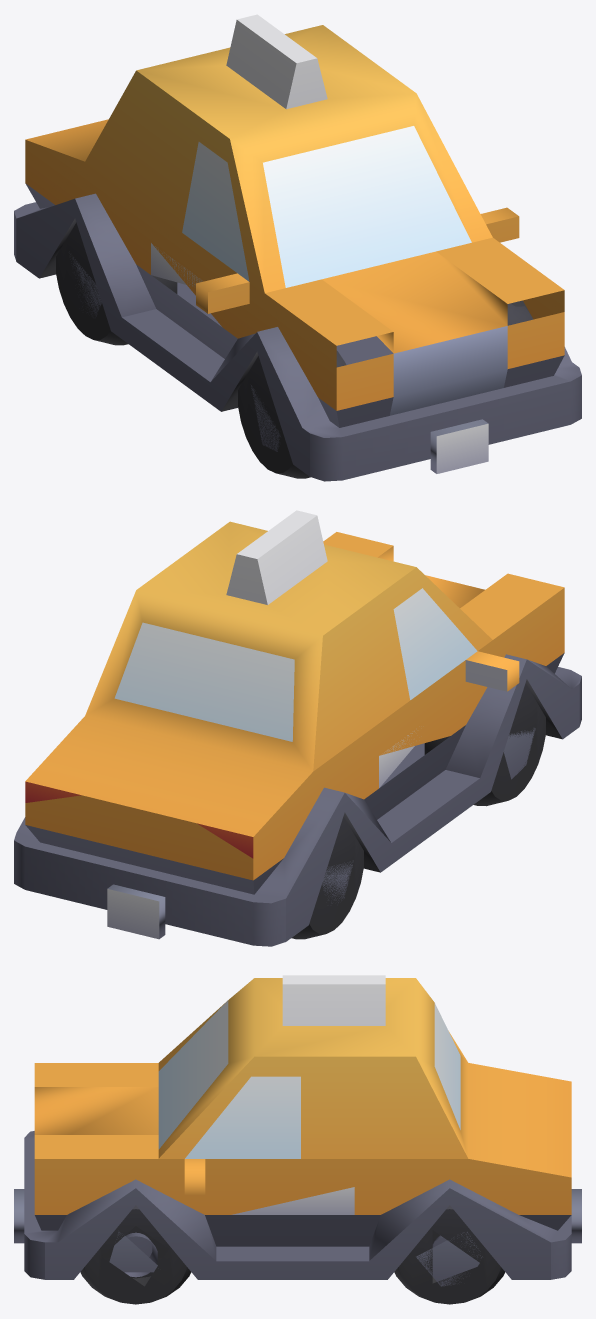
File: cab.glb
3 views of the same model, one above another, from view 1: azimuth 30°, elevation 25°; view 2: azimuth 150°, elevation 25°; view 3: azimuth 270°, elevation 25° (orthographic). The views are drawn at different scales.
Visible parts, largest first — view 1: body; view 2: body; view 3: body.
Part boxes in pixels (left/top/right/bottom): body: left=14, top=14, right=581, bottom=481; body: left=14, top=510, right=581, bottom=946; body: left=14, top=975, right=581, bottom=1304.
Bounding box in the file's own units: 1.5 × 1.5 × 2.75.
1 material, 1 textured.
